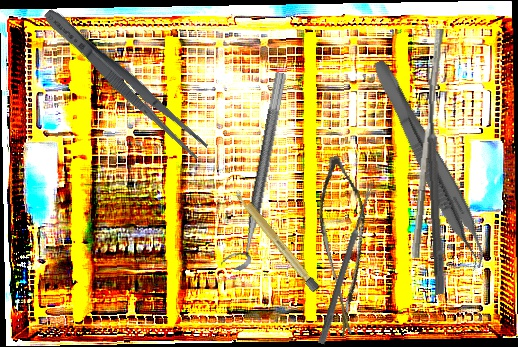Dressing Forceps: (37, 2, 212, 163)
Fixation Ring: (220, 68, 288, 273)
Micro Scissor: (296, 152, 395, 340)
Pusher: (411, 28, 445, 259)
Scalpel Handle: (232, 186, 321, 294)
Surgical Spoon: (317, 181, 376, 345), (423, 66, 447, 295)
Tissue Forceps: (358, 57, 499, 273)
